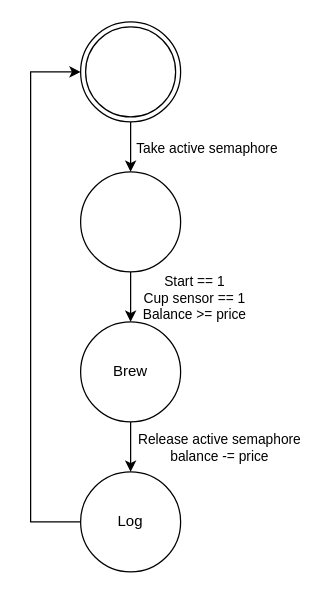
This 321x594 diagram has some shape labels left out. Here are the shapes that lost their labels. From the top down, the centre of each, then its label:
the point at 130,71: Start
the point at 130,221: Select Coffee Type
